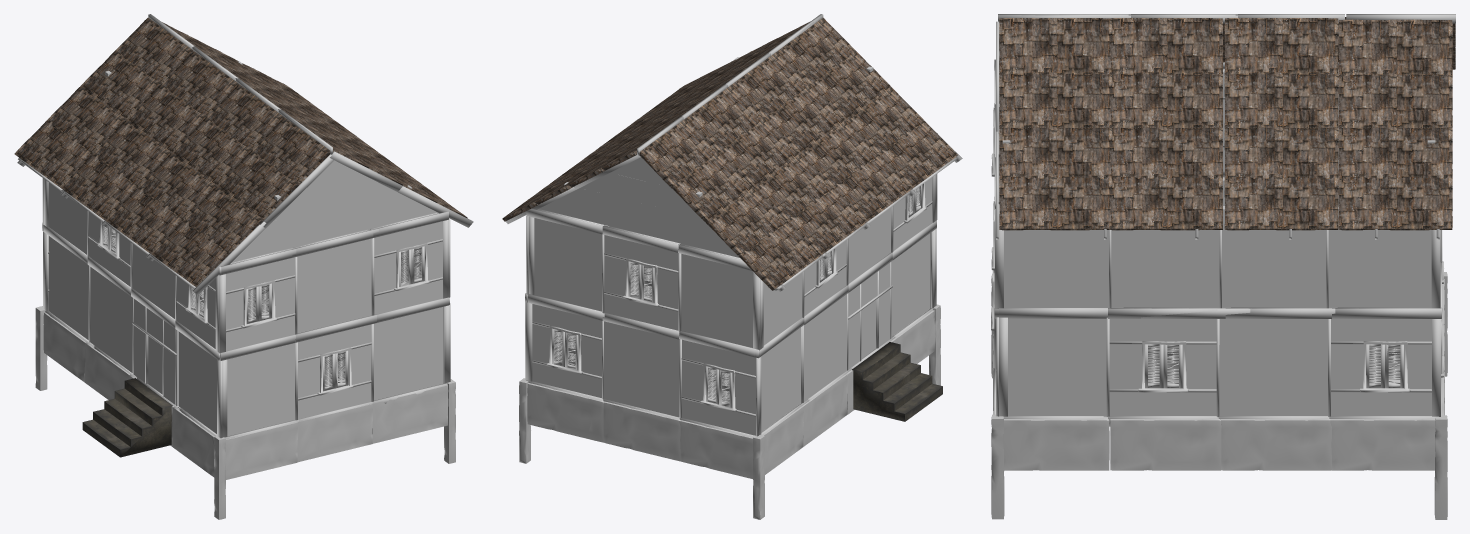
The model's file is Casa_V7_Red.fbx.
The picture shows the model from 3 angles, left to right: view 1: azimuth 30°, elevation 25°; view 2: azimuth 150°, elevation 25°; view 3: azimuth 270°, elevation 25°; orthographic projection. The views are drawn at different scales.
Parts seen in each view (by area): view 1: pared_yeso_3x3_LOW__5_, escalera_piedra_low; view 2: pared_yeso_3x3_LOW__5_, escalera_piedra_low; view 3: pared_yeso_3x3_LOW__5_.
Part boxes in pixels (x1,y1,x2,y2): pared_yeso_3x3_LOW__5_: (14,14,473,519); escalera_piedra_low: (82,378,172,457); pared_yeso_3x3_LOW__5_: (502,14,962,519); escalera_piedra_low: (852,342,942,421); pared_yeso_3x3_LOW__5_: (991,14,1455,519).
Bounding box in the file's own units: 1190 × 1272 × 1244.
